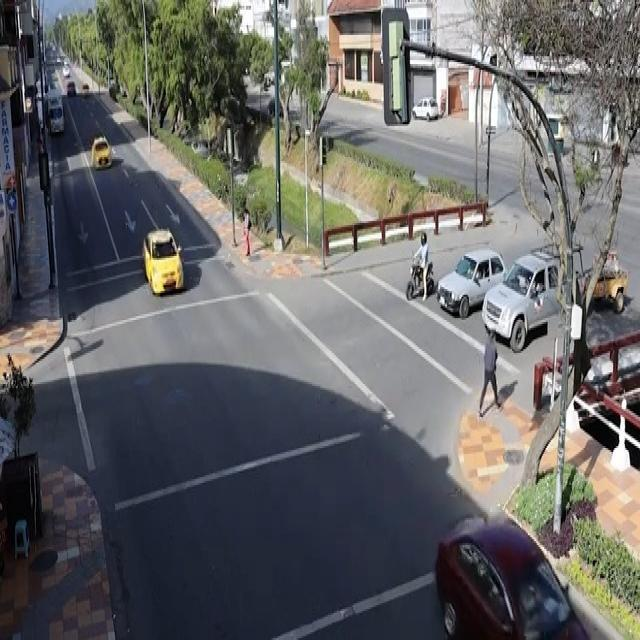CMT: (485, 246, 593, 348)
